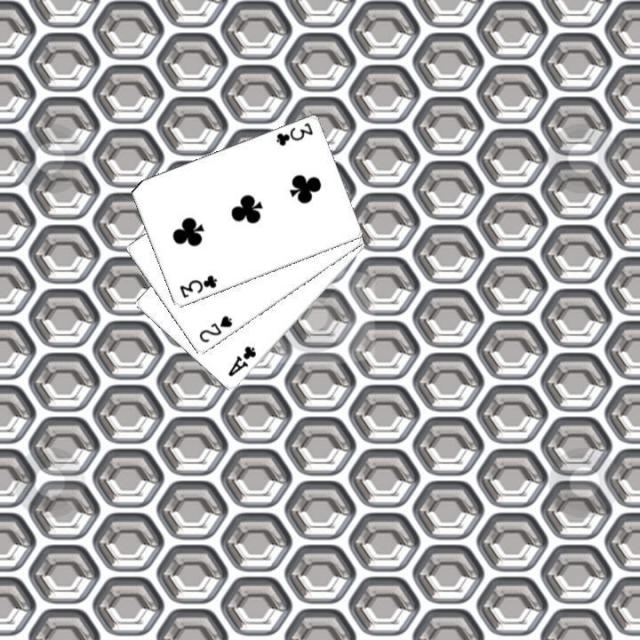2S: (194, 312, 233, 345)
3C: (175, 271, 219, 301), (272, 119, 315, 149)
AC: (224, 342, 258, 379)
